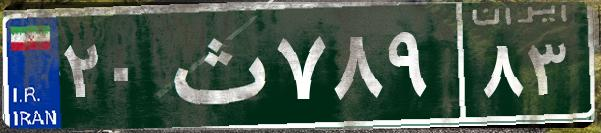0: (110, 28, 158, 105)
2: (57, 26, 110, 107)
3: (525, 38, 570, 115)
7: (273, 28, 330, 110)
8: (330, 28, 385, 110), (475, 38, 525, 113)
9: (385, 28, 445, 110)
ث: (158, 15, 273, 115)
